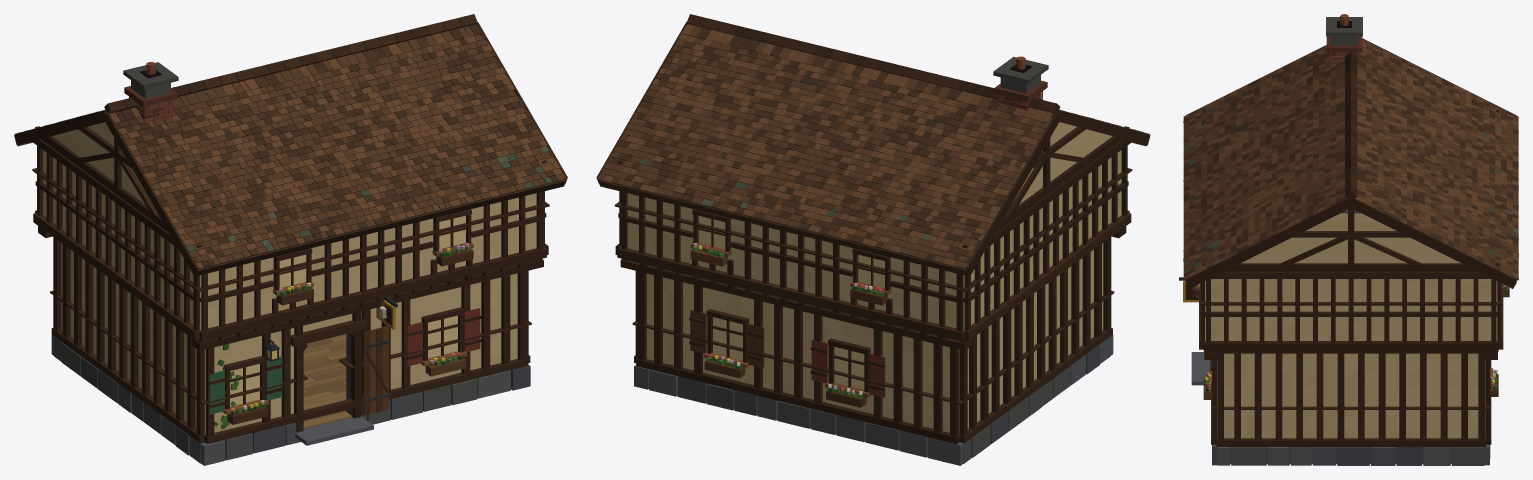
The model's file is inn.glb.
3 renders of one model, left to right at view 1: azimuth 30°, elevation 25°; view 2: azimuth 150°, elevation 25°; view 3: azimuth 270°, elevation 25°, orthographic. The views are drawn at different scales.
Parts seen in each view (by area): view 1: inn_shell, inn_interior, inn_glass, inn_cap1, inn_cap; view 2: inn_shell, inn_glass, inn_cap1, inn_cap; view 3: inn_shell, inn_cap1, inn_cap.
Part boxes in pixels (box(x1,y1,x2,y2)): inn_shell: box(14, 14, 567, 465); inn_interior: box(303, 334, 351, 428); inn_glass: box(230, 215, 465, 406); inn_cap1: box(32, 168, 549, 291); inn_cap: box(50, 291, 531, 404); inn_shell: box(596, 14, 1150, 465); inn_glass: box(698, 216, 884, 389); inn_cap1: box(614, 168, 1132, 291); inn_cap: box(632, 291, 1114, 404); inn_shell: box(1179, 14, 1518, 465); inn_cap1: box(1200, 283, 1502, 305); inn_cap: box(1212, 383, 1490, 409).
Bounding box in the file's own units: 11.64 × 10.32 × 10.12.
